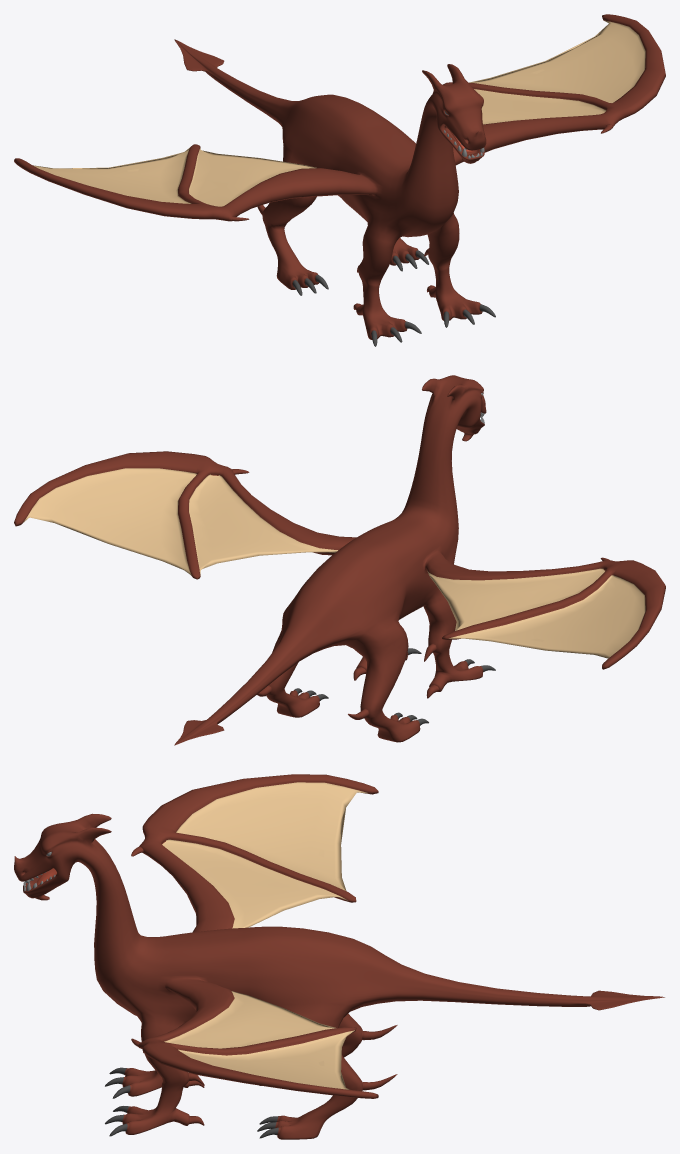
The model's file is Dragon.fbx.
The picture shows the model from 3 angles, top to bottom: view 1: azimuth 30°, elevation 25°; view 2: azimuth 150°, elevation 25°; view 3: azimuth 270°, elevation 25°; orthographic projection. The views are drawn at different scales.
Parts seen in each view (by area): view 1: Dragon; view 2: Dragon; view 3: Dragon.
Boxes of the visible parts, x1,y1,x2,y2 form: Dragon: [14, 14, 665, 346]; Dragon: [14, 375, 665, 745]; Dragon: [14, 774, 664, 1139].
Bounding box in the file's own units: 1954 × 826 × 1705.
